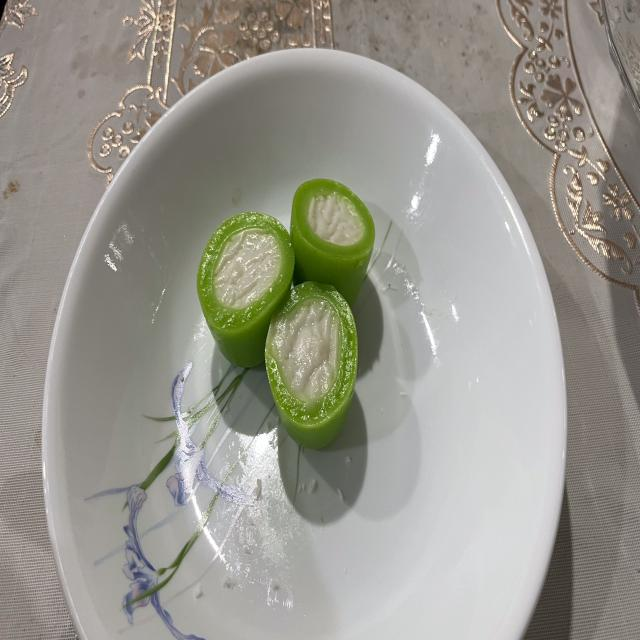nona-manis: (265, 282, 358, 449), (198, 213, 295, 367), (290, 178, 375, 307)
